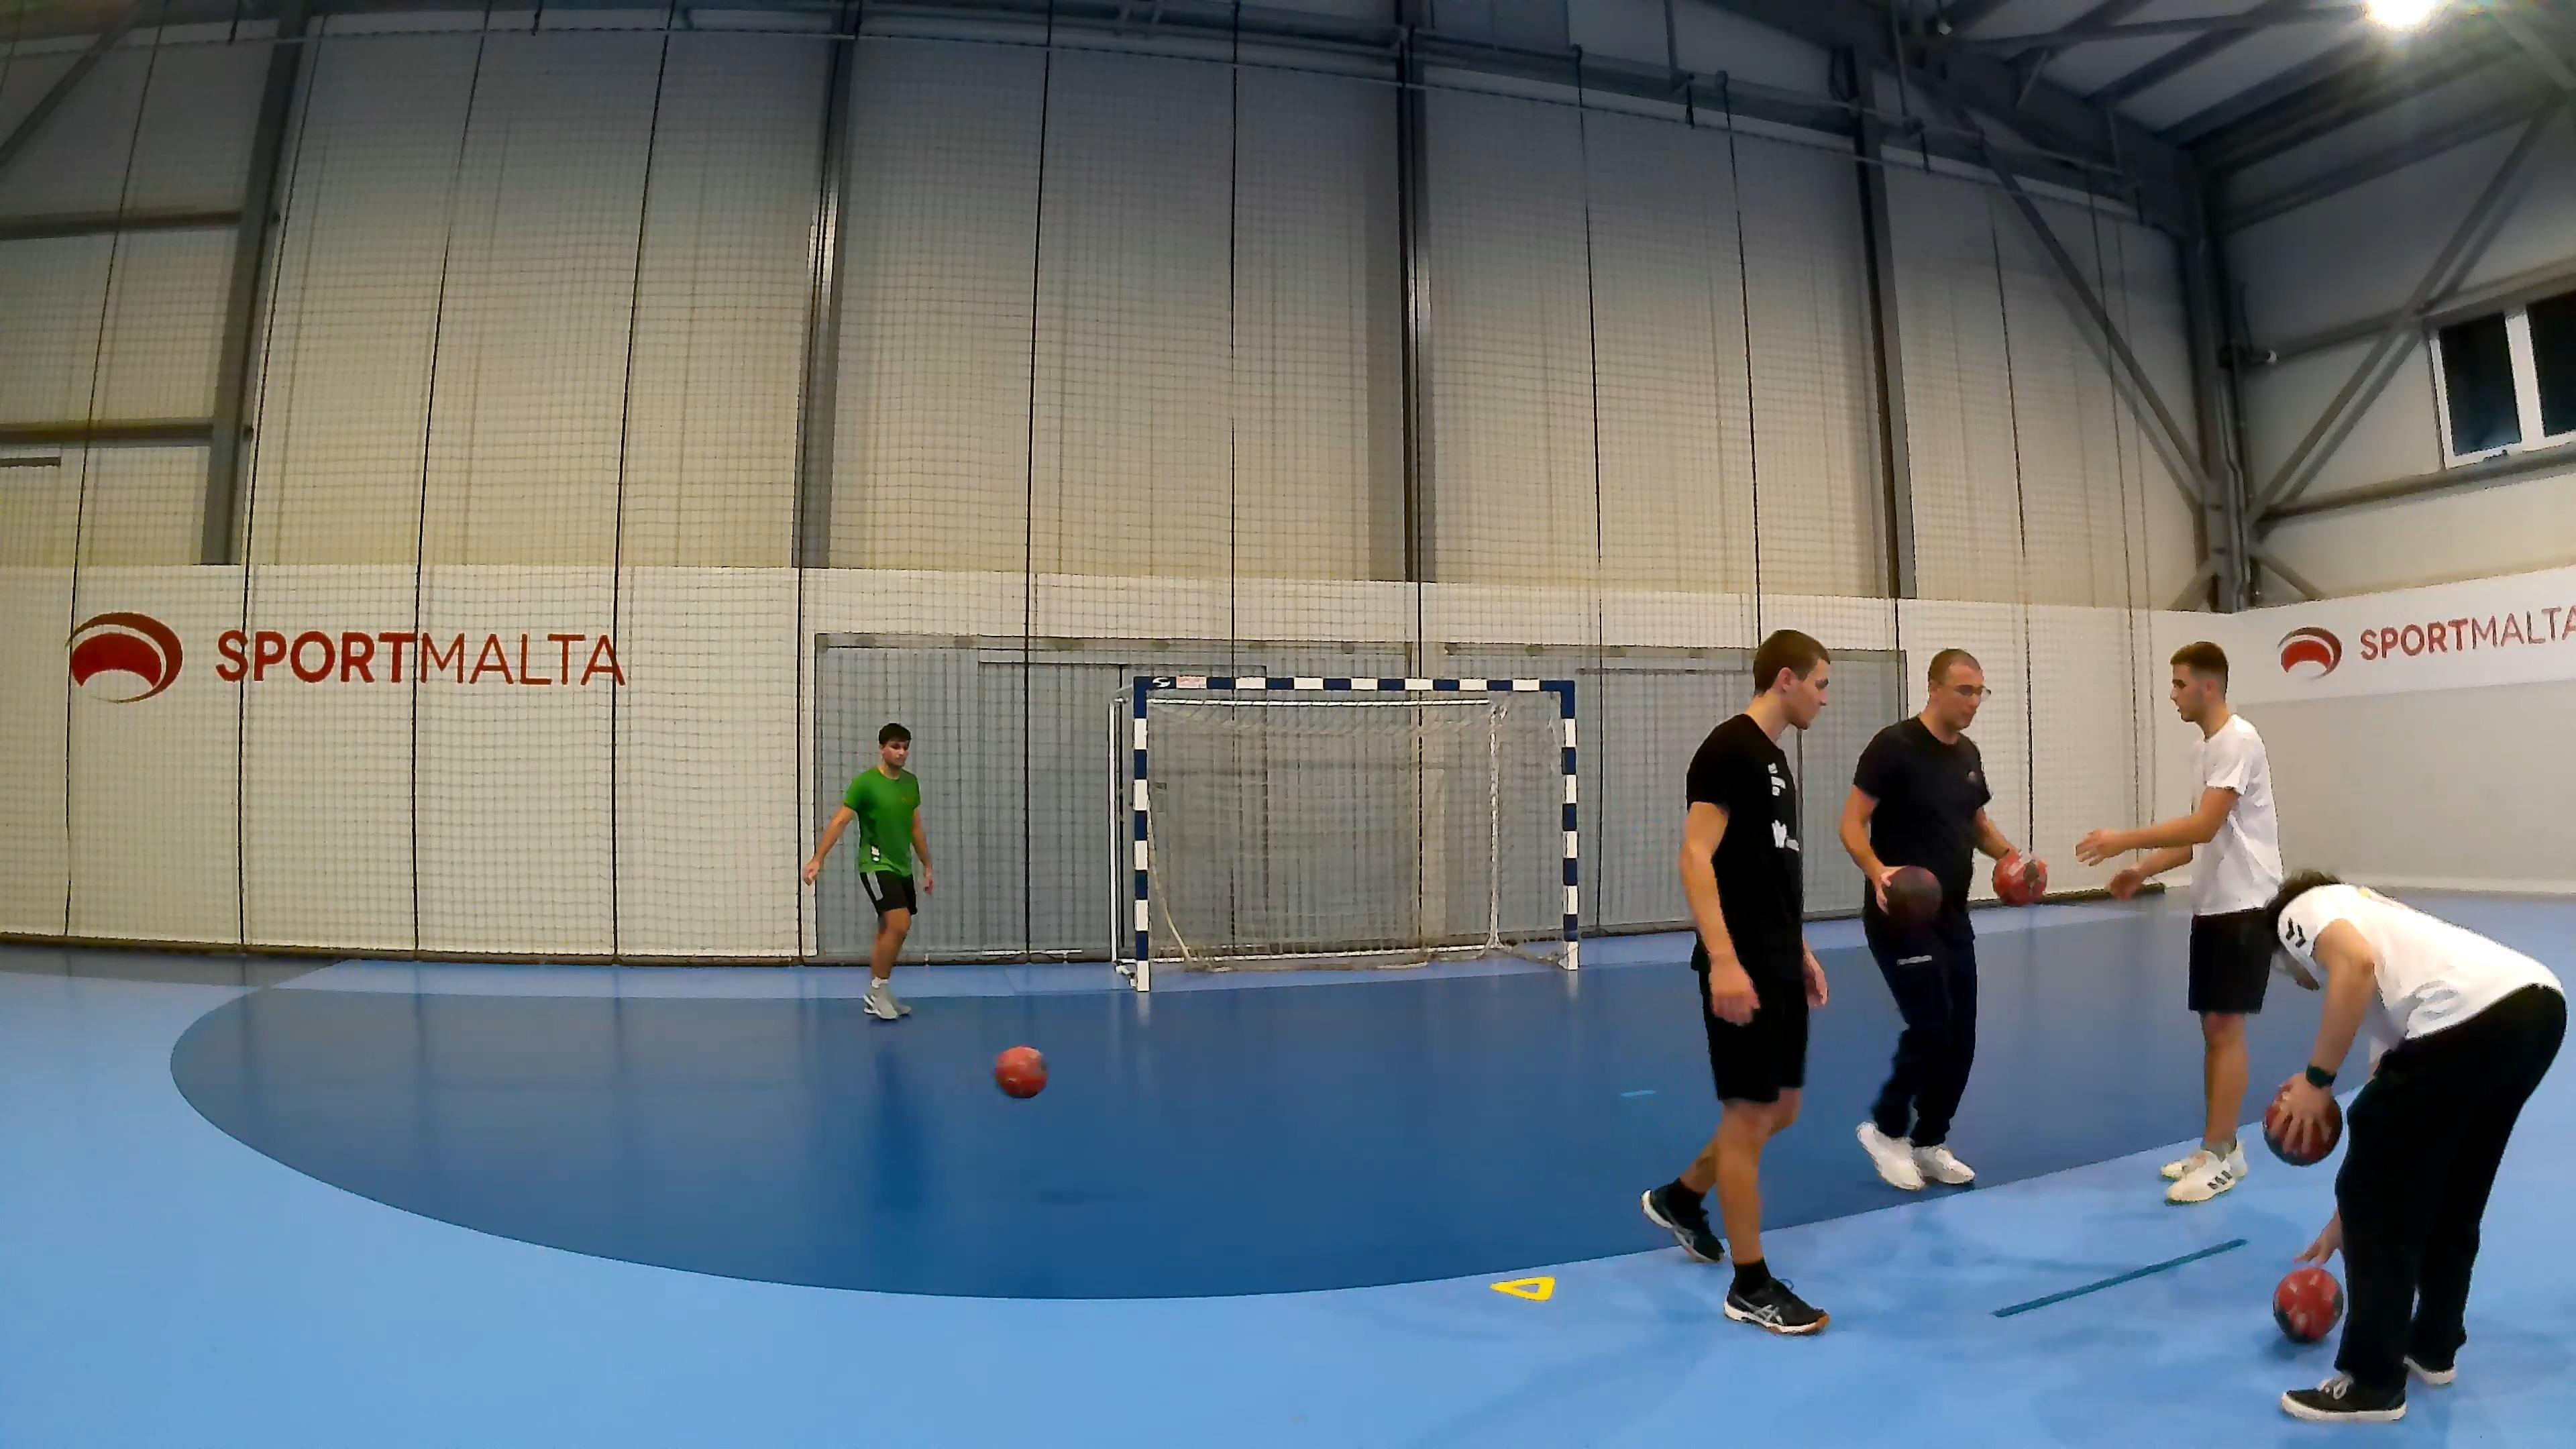handball: (2263, 1085, 2342, 1166), (2272, 1263, 2342, 1343), (1881, 863, 1941, 927), (1990, 847, 2047, 904), (994, 1044, 1047, 1097)
